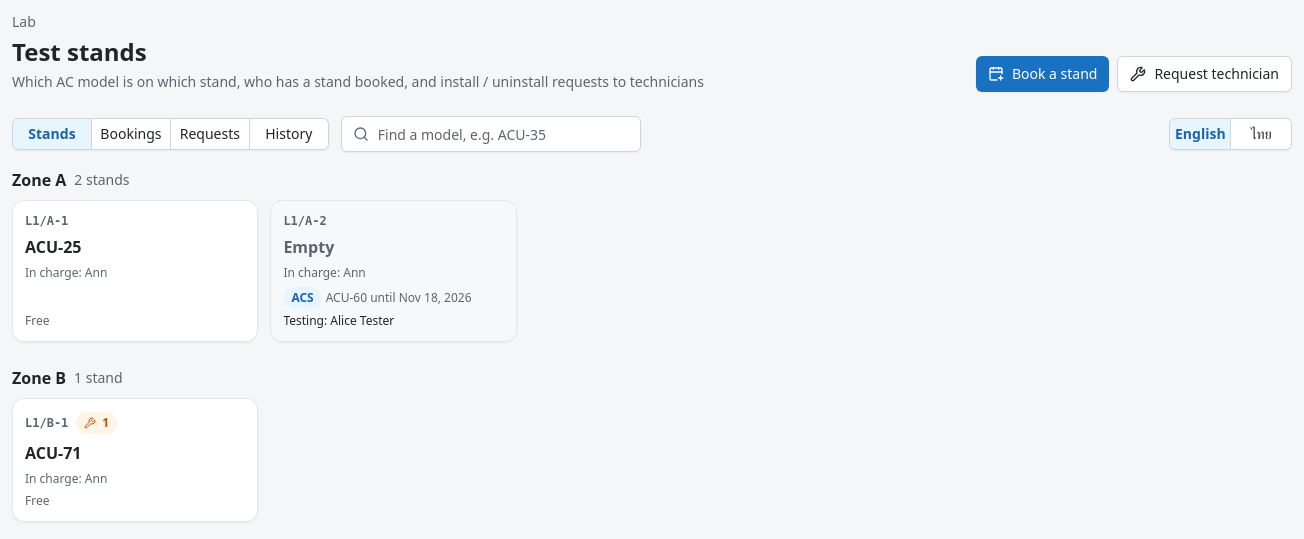
it: Test stands page › switches the whole page to Thai
The width and height of the screenshot is (1304, 539).
Expected: the heading "Zone A" is shown, [12,168,66,192]
Click the radio button labelled "ไทย" at (1262, 134), box [1231,118,1292,150]
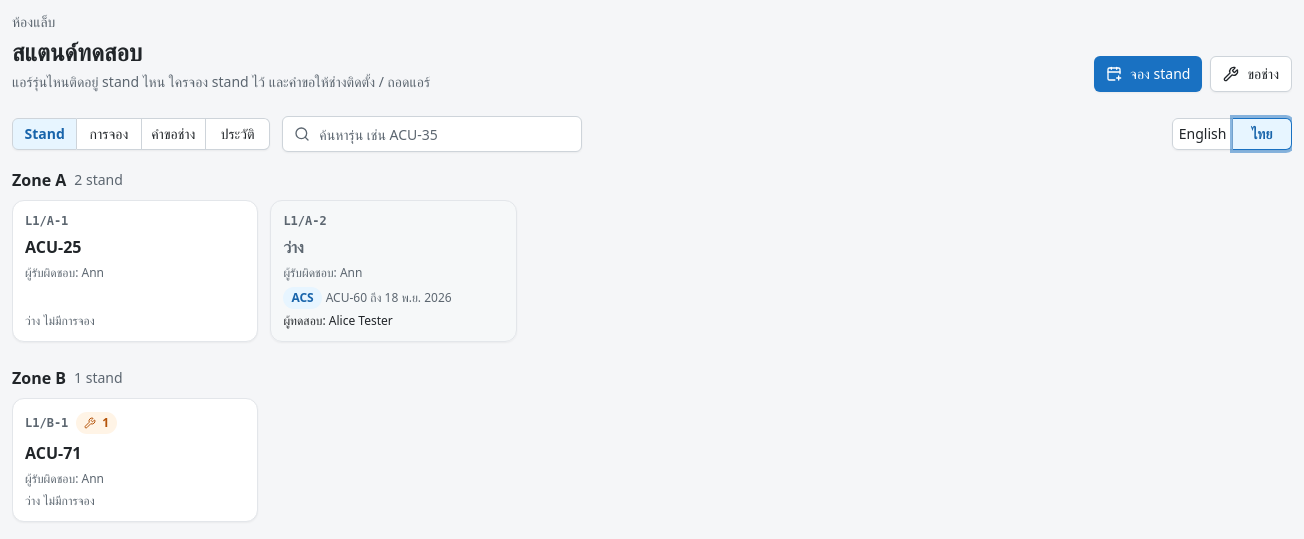
Expected: the heading "สแตนด์ทดสอบ" is shown, [12,35,142,68]
Expected: the button "จอง stand" is shown, [1094,56,1202,92]
Expected: the radio button labelled "การจอง" is shown, [77,118,142,150]
Click the radio button labelled "English" at (1203, 134), box [1172,118,1233,150]
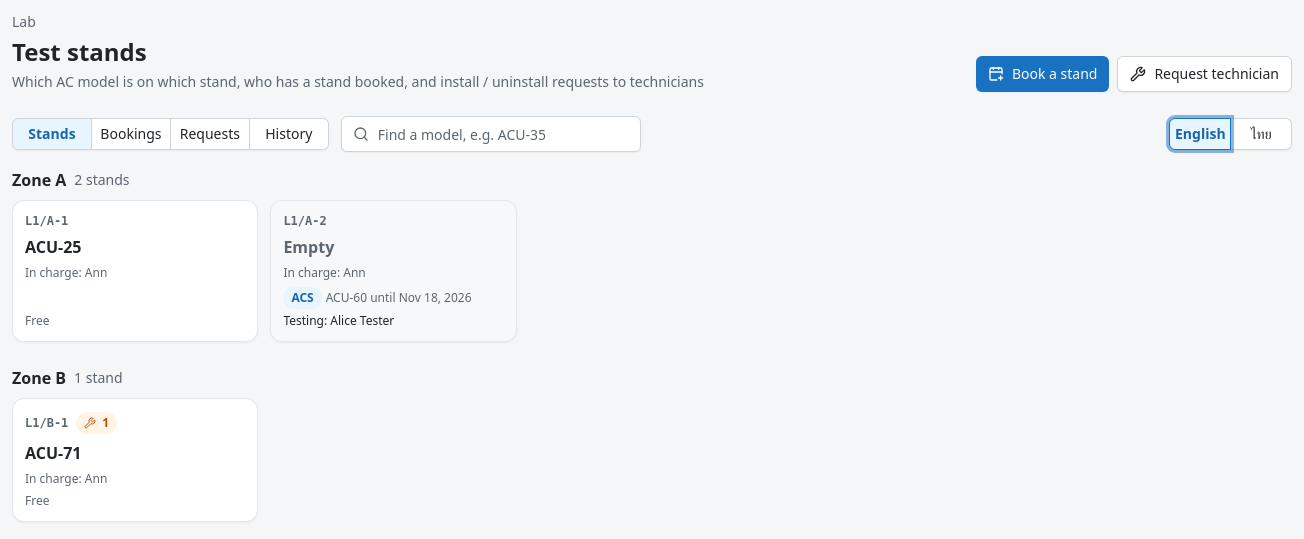
Expected: the heading "Test stands" is shown, [12,35,147,68]
